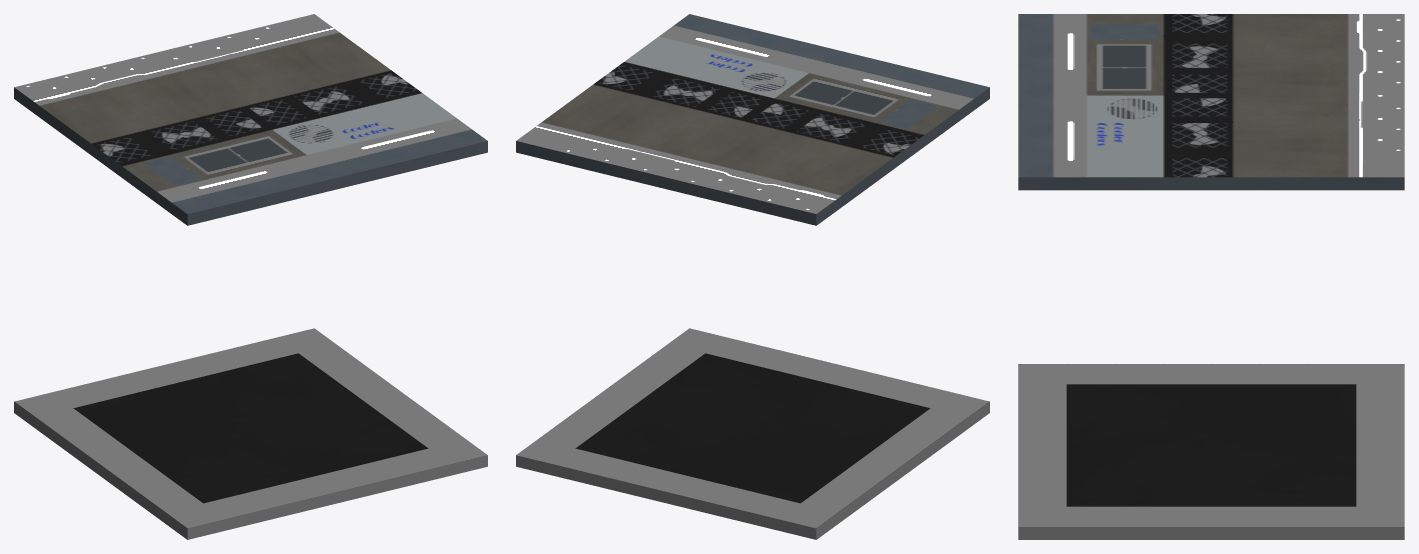
The model's file is floor tile neutral.fbx.
3 renders of one model, left to right at view 1: azimuth 30°, elevation 25°; view 2: azimuth 150°, elevation 25°; view 3: azimuth 270°, elevation 25°, orthographic. The views are drawn at different scales.
Parts seen in each view (by area): view 1: Plane.001, Plane; view 2: Plane.001, Plane; view 3: Plane.001, Plane.
Part boxes in pixels (x1,y1,x2,y2): Plane.001: (14, 14, 487, 225); Plane: (14, 328, 487, 539); Plane.001: (516, 14, 989, 225); Plane: (516, 328, 989, 539); Plane.001: (1018, 14, 1404, 190); Plane: (1018, 364, 1404, 539).
Bounding box in the file's own units: 200 × 207 × 200.
